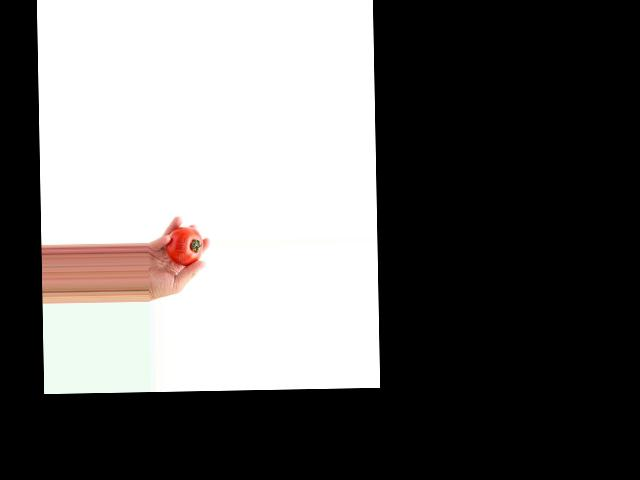tomato: (165, 225, 203, 265)
